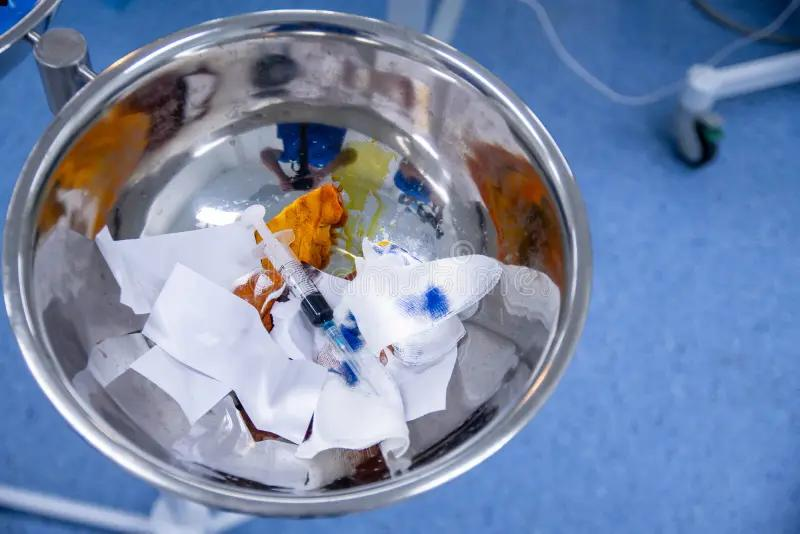Syringe: (240, 205, 363, 384)
